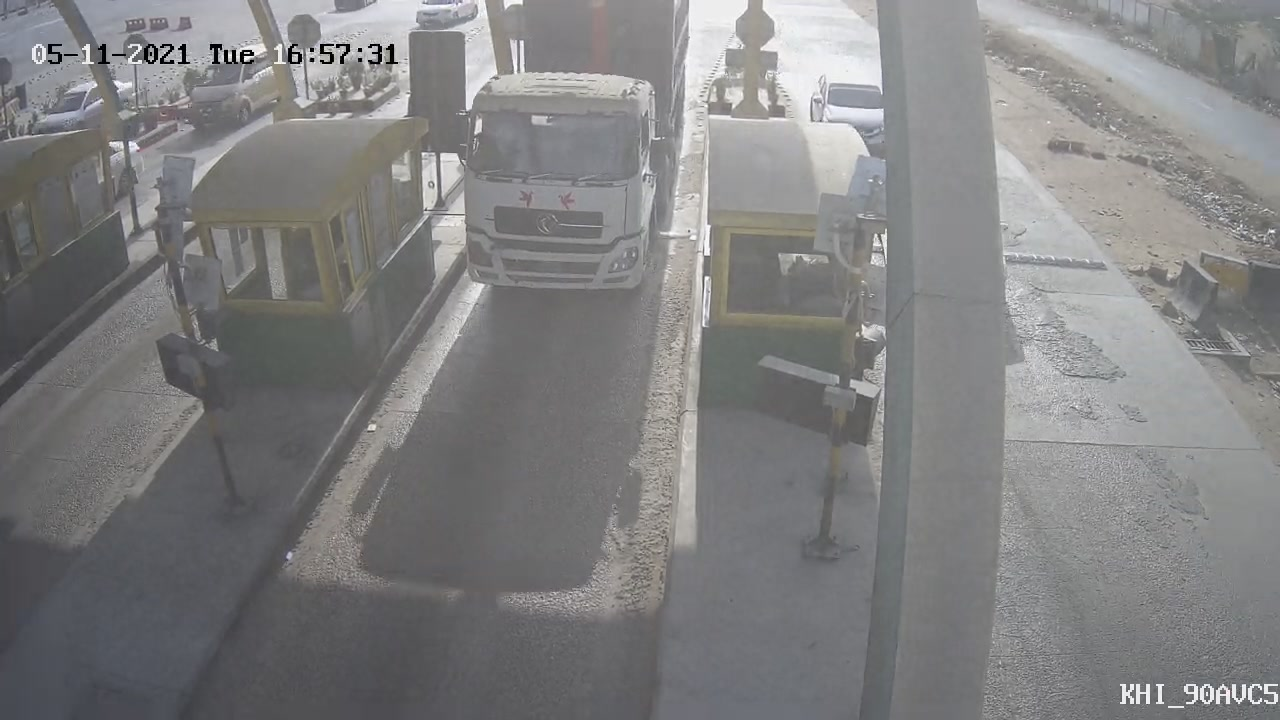F6: (425, 1, 708, 316)
